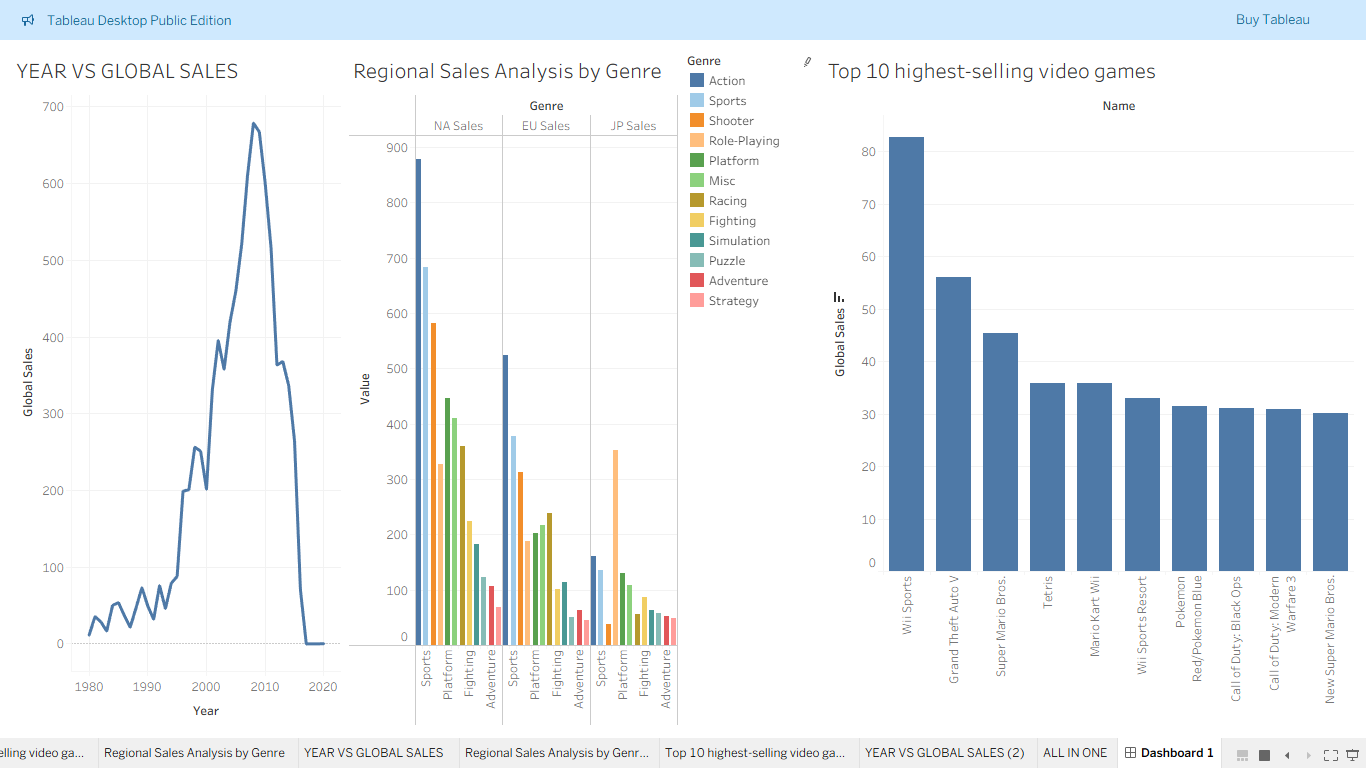

Layout of this report page (visuals, bound fields, positions):
{"tool":"tableau","page":{"name":"Dashboard 1","canvas":[1000,1000],"units":"permille","ordinal":0},"visuals":[{"type":"worksheet","title":"YEAR VS GLOBAL SALES ","mark":"Automatic","rows":["Global_Sales"],"cols":["Year"],"box":[6.9,14.5,246.5,971]},{"type":"worksheet","title":"Regional Sales Analysis by Genre","mark":"Automatic","cols":["Genre"],"box":[253.5,14.5,246.5,971]},{"type":"legend","title":"Regional Sales Analysis by Genre","param":"[federated.15youo71s7p5fs18o9m4e0rqmdz4].[none:Genre:nk]","box":[500,14.5,100,971]},{"type":"worksheet","title":"Top 10 highest-selling video games","mark":"Automatic","rows":["Global_Sales"],"cols":["Name"],"box":[600,14.5,393.1,971]}]}

Visuals, with their boxes on the dashboard's canvas, which has no fixed pixel size, in thousandths of its width and height (x1, y1, x2, y2). These are canvas units, not pixel positions in the 1366x768 screenshot, which may show the page scaled, cropped or inside an application window:
"YEAR VS GLOBAL SALES " worksheet: 7, 14, 253, 986
"Regional Sales Analysis by Genre" worksheet: 254, 14, 500, 986
"Regional Sales Analysis by Genre" legend: 500, 14, 600, 986
"Top 10 highest-selling video games" worksheet: 600, 14, 993, 986
